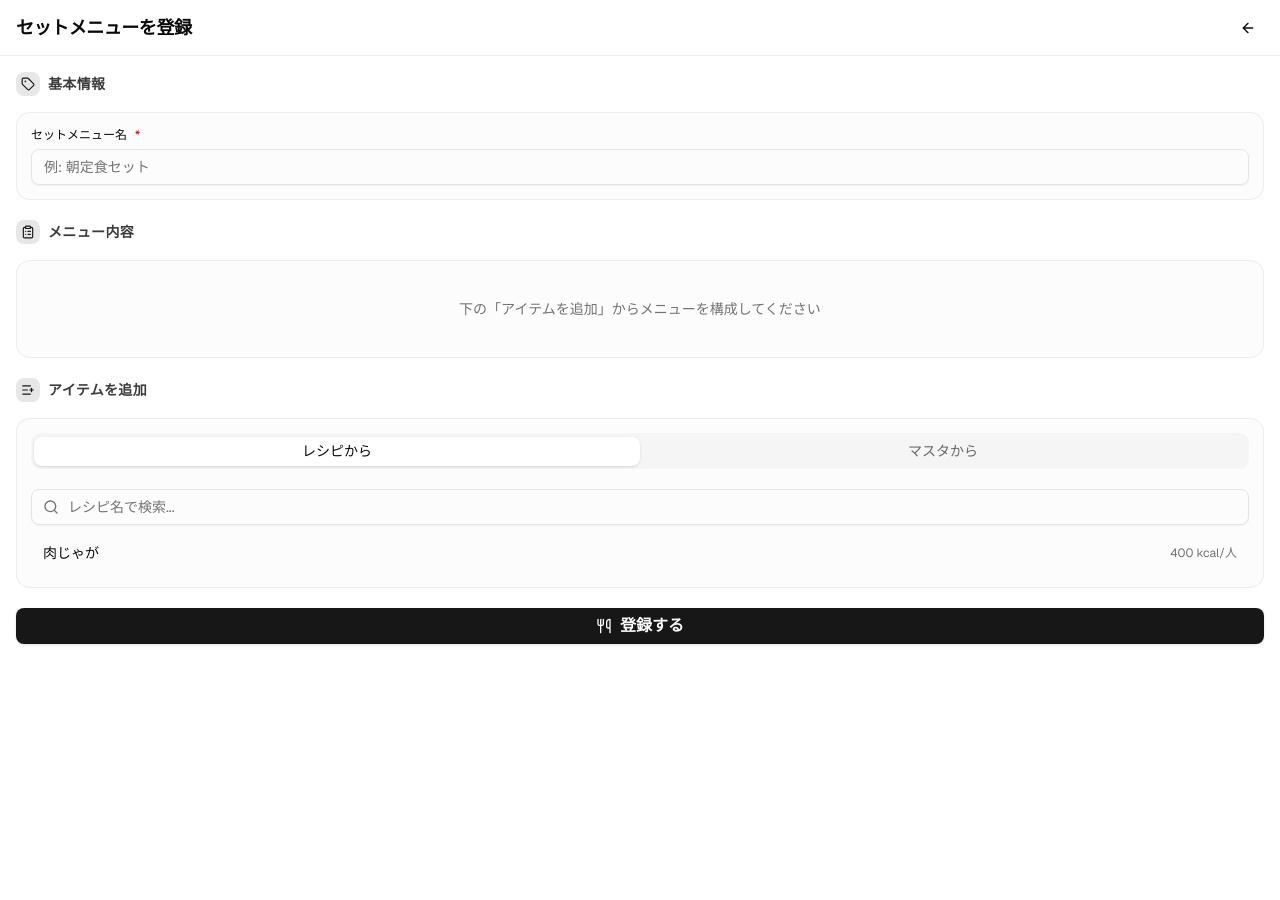
Test: SetMenuFormView (S-06a セットメニュー登録/編集) › 新規 › S-06a: アイテムの「×」で外すと、合計からも消える
Click the button "肉じゃが 400 kcal/人".
click(71, 553)  # box [31,533,1249,573]
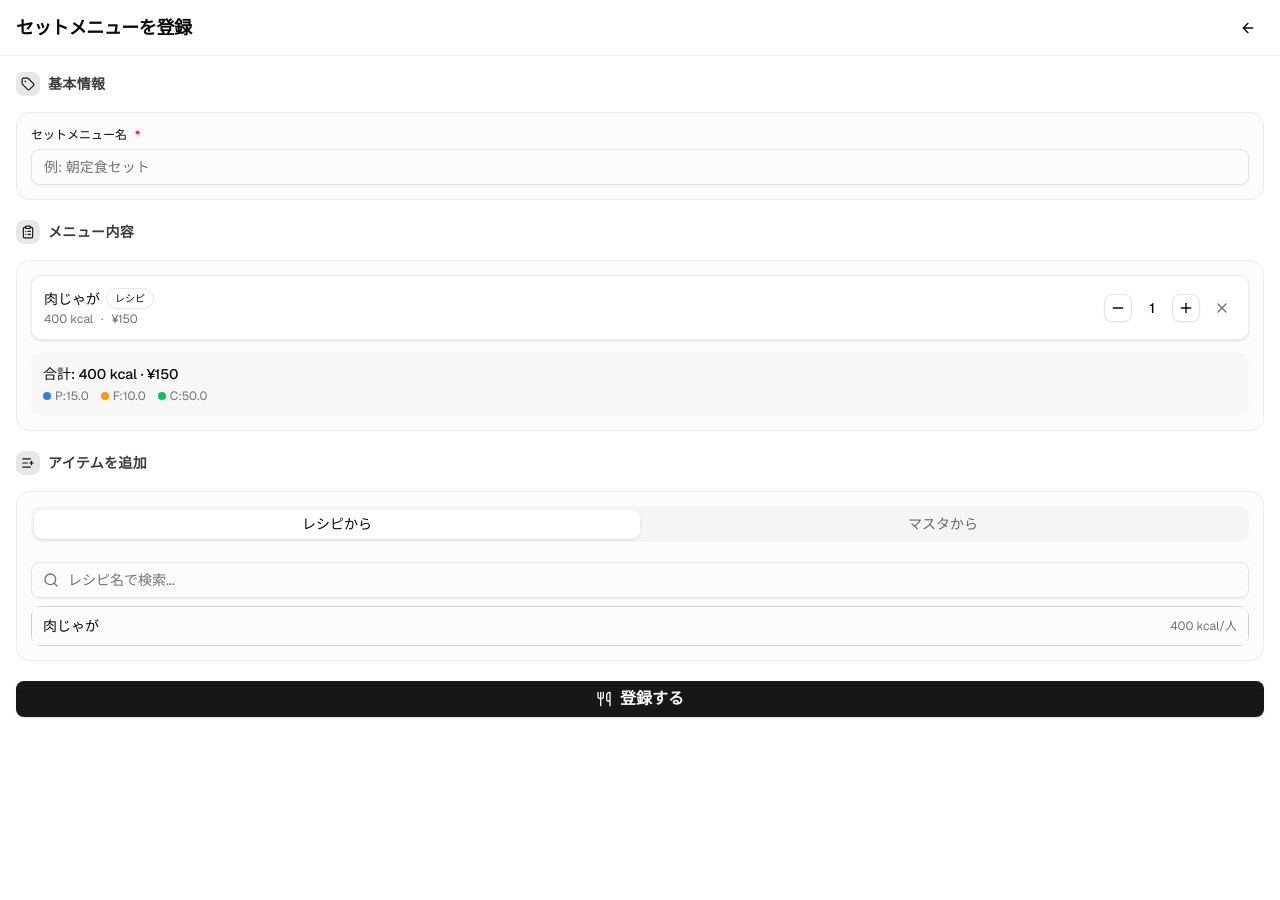
Click the tab "マスタから".
click(943, 524)  # box [640,510,1246,538]
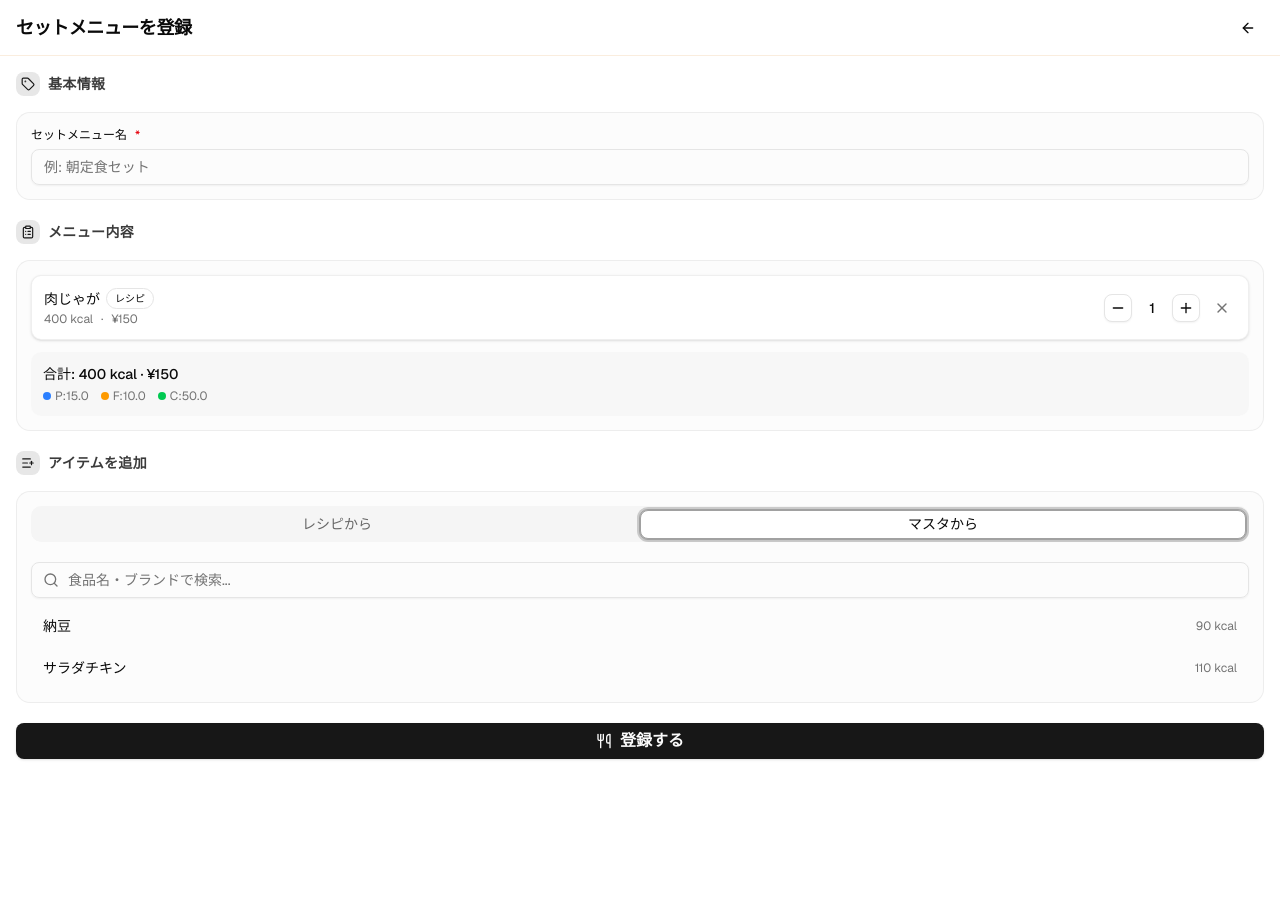
Click the button "納豆 90 kcal".
click(1217, 626)  # box [31,606,1249,646]
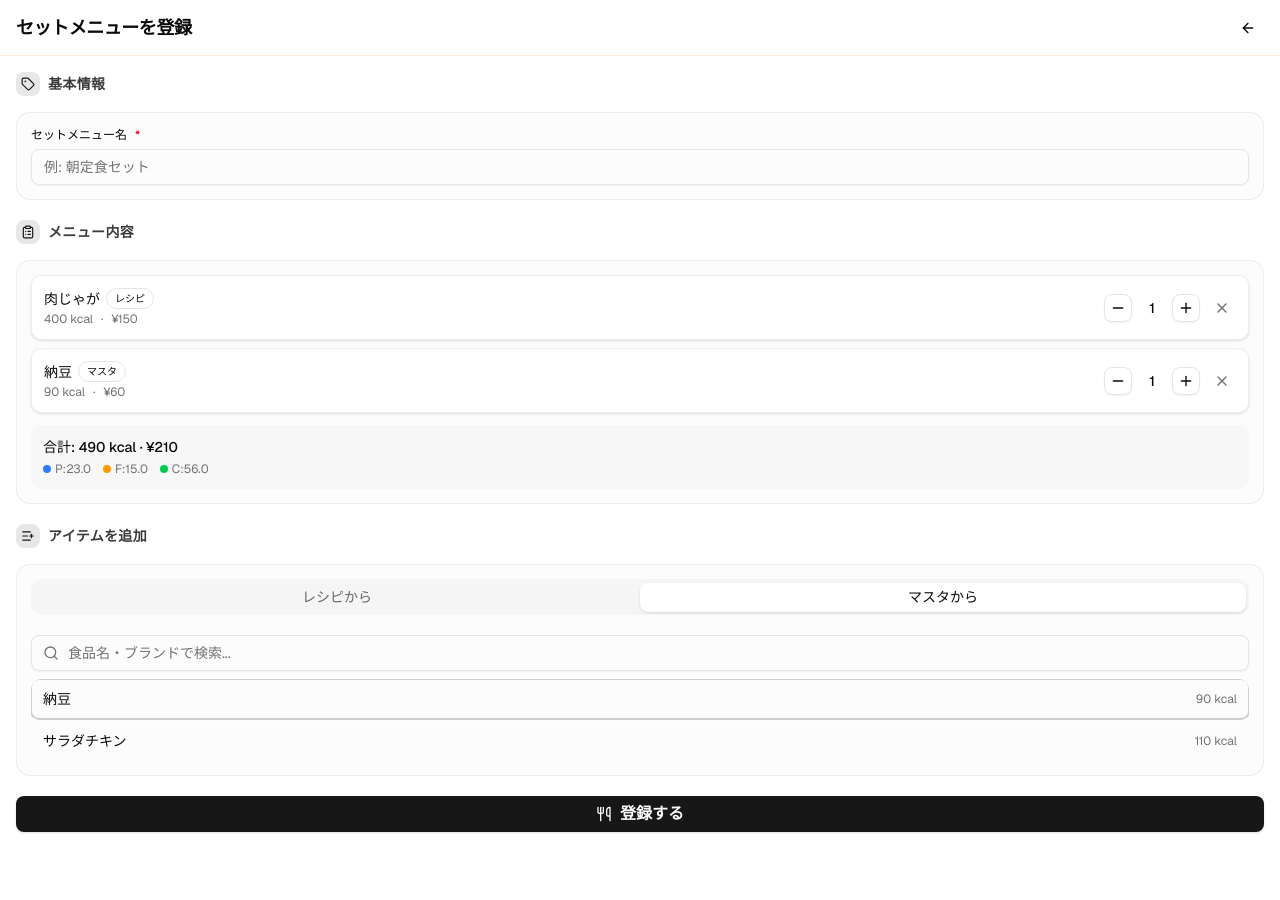
Click the button named "「肉じゃが」を外す".
click(1222, 308)  # box [1208,294,1236,322]
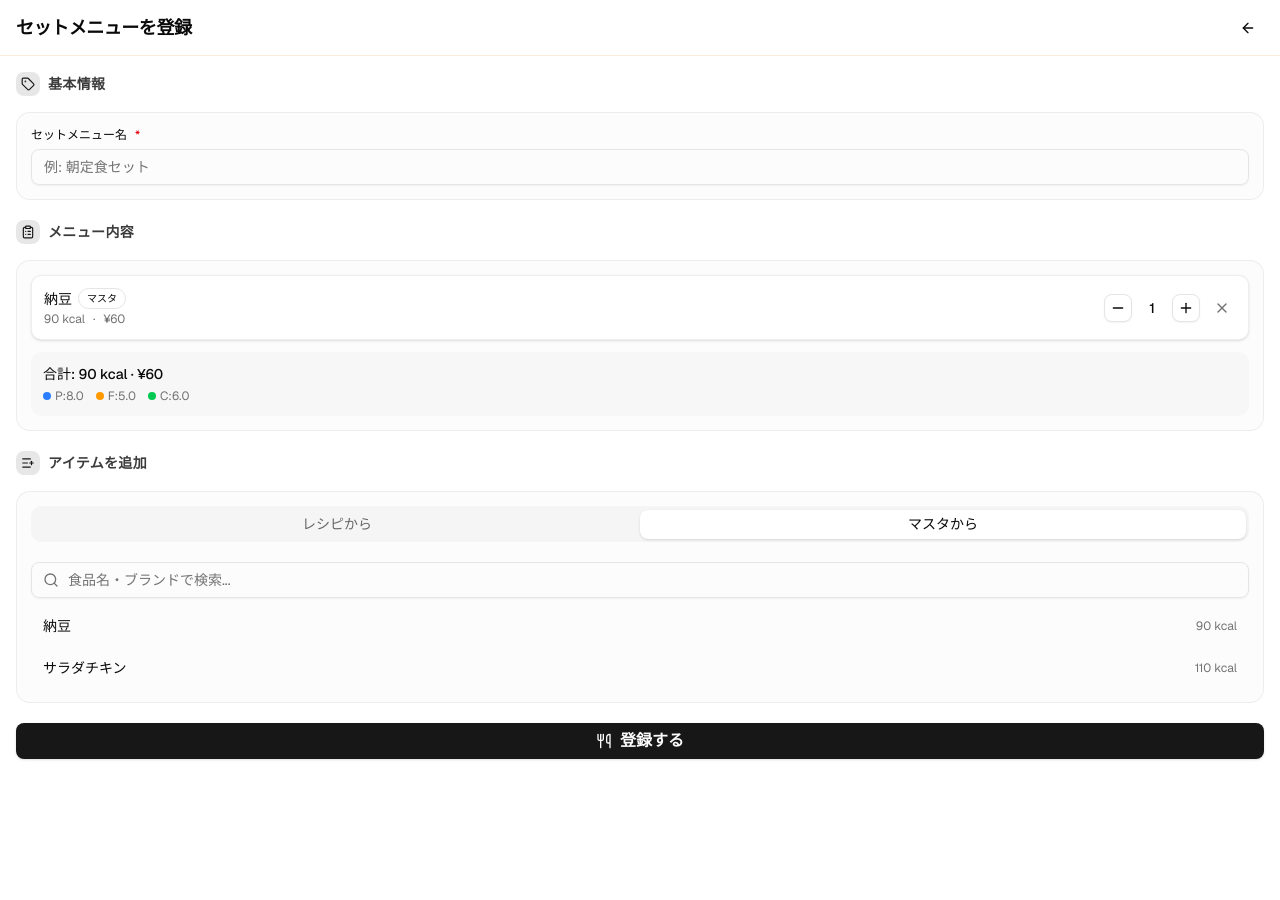
Result: the text "合計: 90 kcal · ¥60" is shown at [43,365,163,383]
